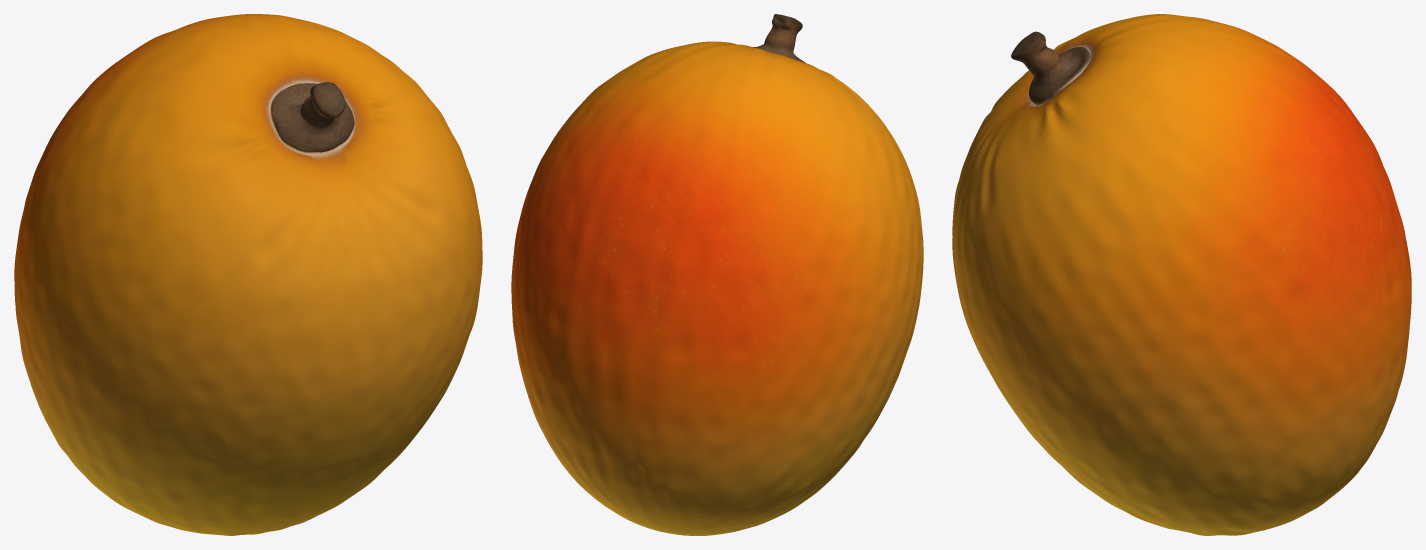
File: alphonsoMango.glb
3 views of the same model, side by side, from view 1: azimuth 30°, elevation 25°; view 2: azimuth 150°, elevation 25°; view 3: azimuth 270°, elevation 25° (orthographic). The views are drawn at different scales.
Visible parts, largest first — view 1: tripo_node_c6ed0b4f-2718-4bc8-96ac-27e3b6c4696b; view 2: tripo_node_c6ed0b4f-2718-4bc8-96ac-27e3b6c4696b; view 3: tripo_node_c6ed0b4f-2718-4bc8-96ac-27e3b6c4696b.
Boxes of the visible parts, x1,y1,x2,y2 form: tripo_node_c6ed0b4f-2718-4bc8-96ac-27e3b6c4696b: [14, 14, 482, 535]; tripo_node_c6ed0b4f-2718-4bc8-96ac-27e3b6c4696b: [511, 14, 923, 535]; tripo_node_c6ed0b4f-2718-4bc8-96ac-27e3b6c4696b: [952, 14, 1411, 535].
Size of the model in its own units: 0.8365 by 1 by 0.8596.
1 material, 1 textured.
